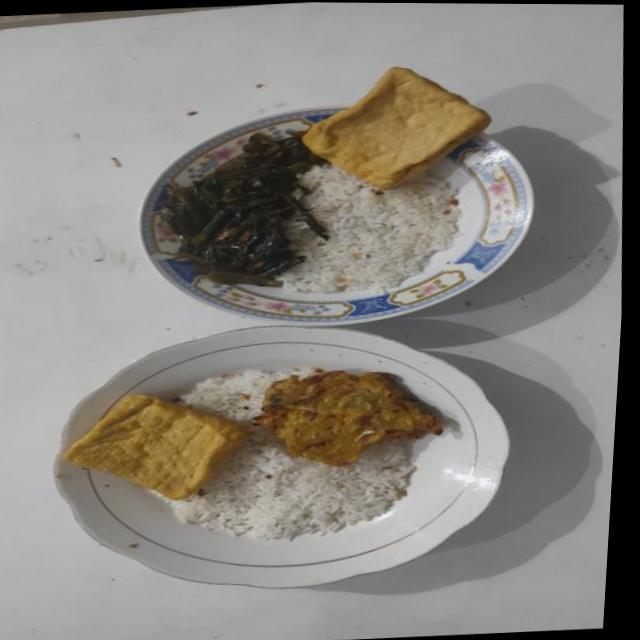nasi_putih: (170, 370, 416, 542), (282, 166, 462, 295)
tahu_goreng: (302, 67, 490, 190), (62, 395, 247, 500)
tumis_kangkung: (162, 133, 329, 284)
